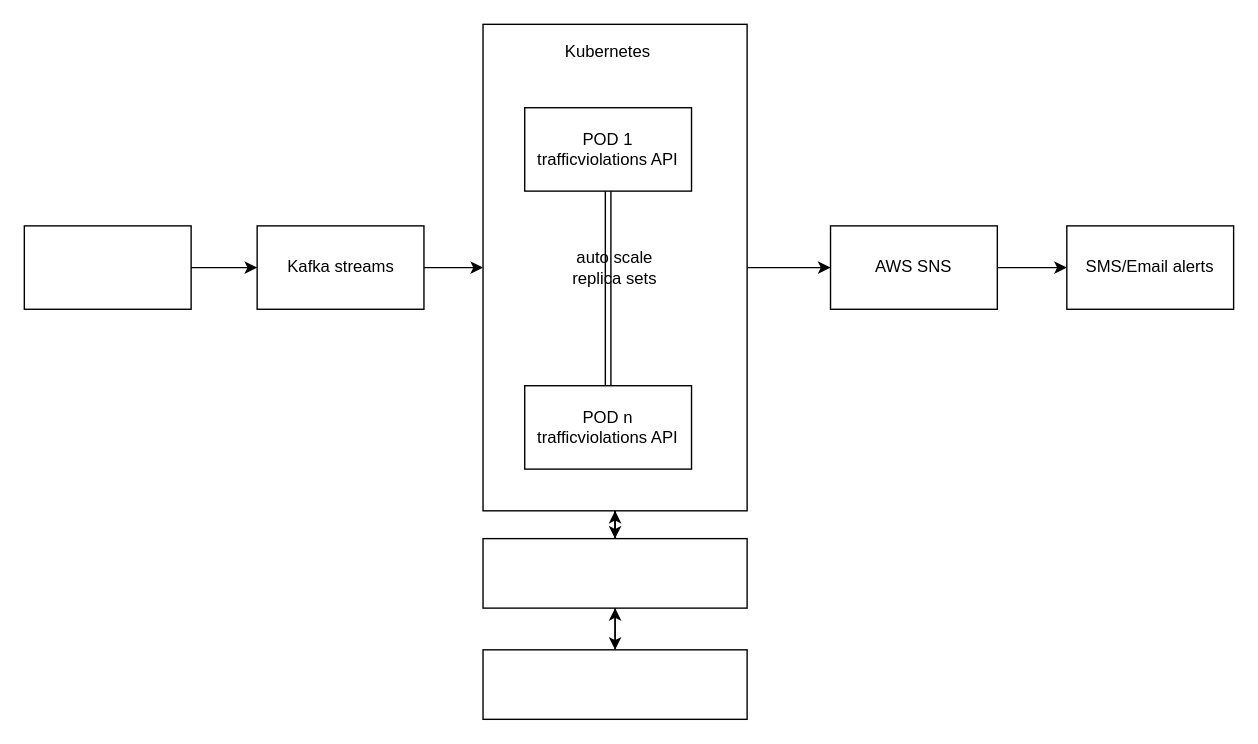
Some shapes in this 1258 by 744 pixel diagram are drawn without their labels. Here are the shapes that lost their labels. From the top down, the centre of each, then its label:
(107,266): Vehicle Reg Numbers from the traffic signal camera feed
(614,572): Redis
(614,683): MongoDB Atlas with autoscaling
